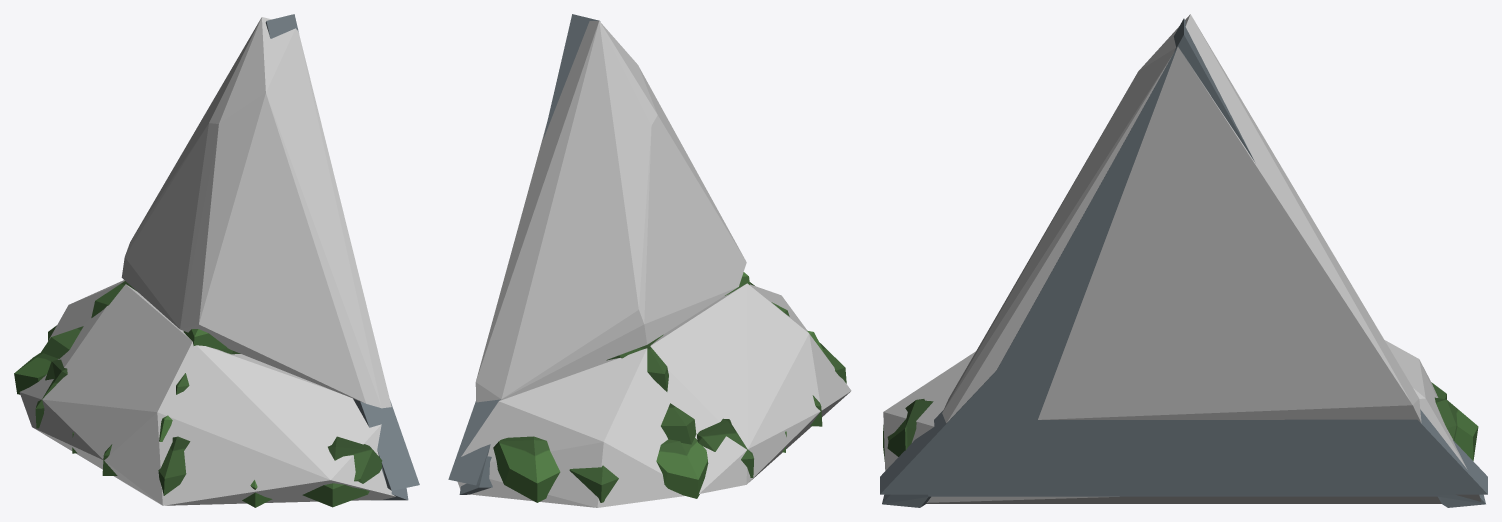
Rendered from SM_Bld_Window_Box_01_Roof_01.fbx.
The picture shows the model from 3 angles, left to right: view 1: azimuth 30°, elevation 25°; view 2: azimuth 150°, elevation 25°; view 3: azimuth 270°, elevation 25°; orthographic projection. The views are drawn at different scales.
Parts seen in each view (by area): view 1: SM_Bld_Window_Box_01_Roof_01_ConvexHulls, SM_Bld_Window_Box_01_Roof_01; view 2: SM_Bld_Window_Box_01_Roof_01_ConvexHulls, SM_Bld_Window_Box_01_Roof_01; view 3: SM_Bld_Window_Box_01_Roof_01_ConvexHulls, SM_Bld_Window_Box_01_Roof_01.
Boxes of the visible parts, x1,y1,x2,y2 form: SM_Bld_Window_Box_01_Roof_01_ConvexHulls: (19,17,395,505); SM_Bld_Window_Box_01_Roof_01: (14,14,419,507); SM_Bld_Window_Box_01_Roof_01_ConvexHulls: (457,20,851,507); SM_Bld_Window_Box_01_Roof_01: (448,14,846,502); SM_Bld_Window_Box_01_Roof_01_ConvexHulls: (883,14,1480,503); SM_Bld_Window_Box_01_Roof_01: (880,18,1487,507).
Size of the model in its own units: 130 by 250 by 217.
Materials: 3 (2 with a texture image).
